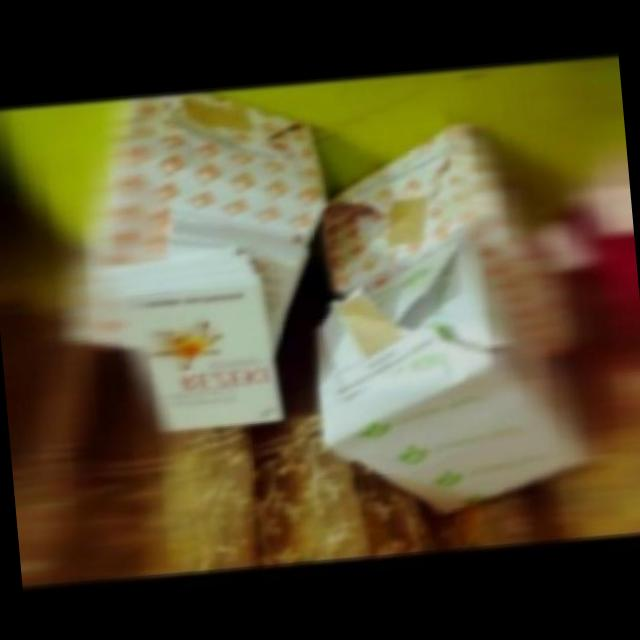box: (285, 76, 600, 397), (64, 72, 356, 370), (300, 250, 575, 521)
